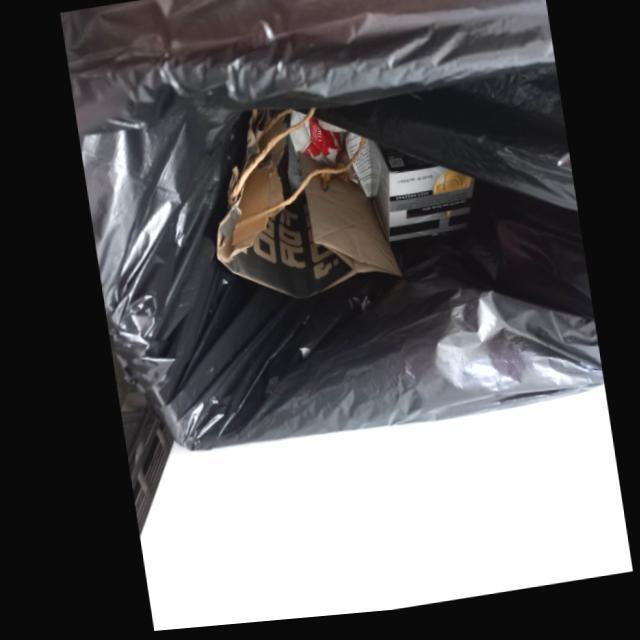paper: (212, 112, 396, 303), (364, 146, 470, 250), (286, 113, 343, 173)
